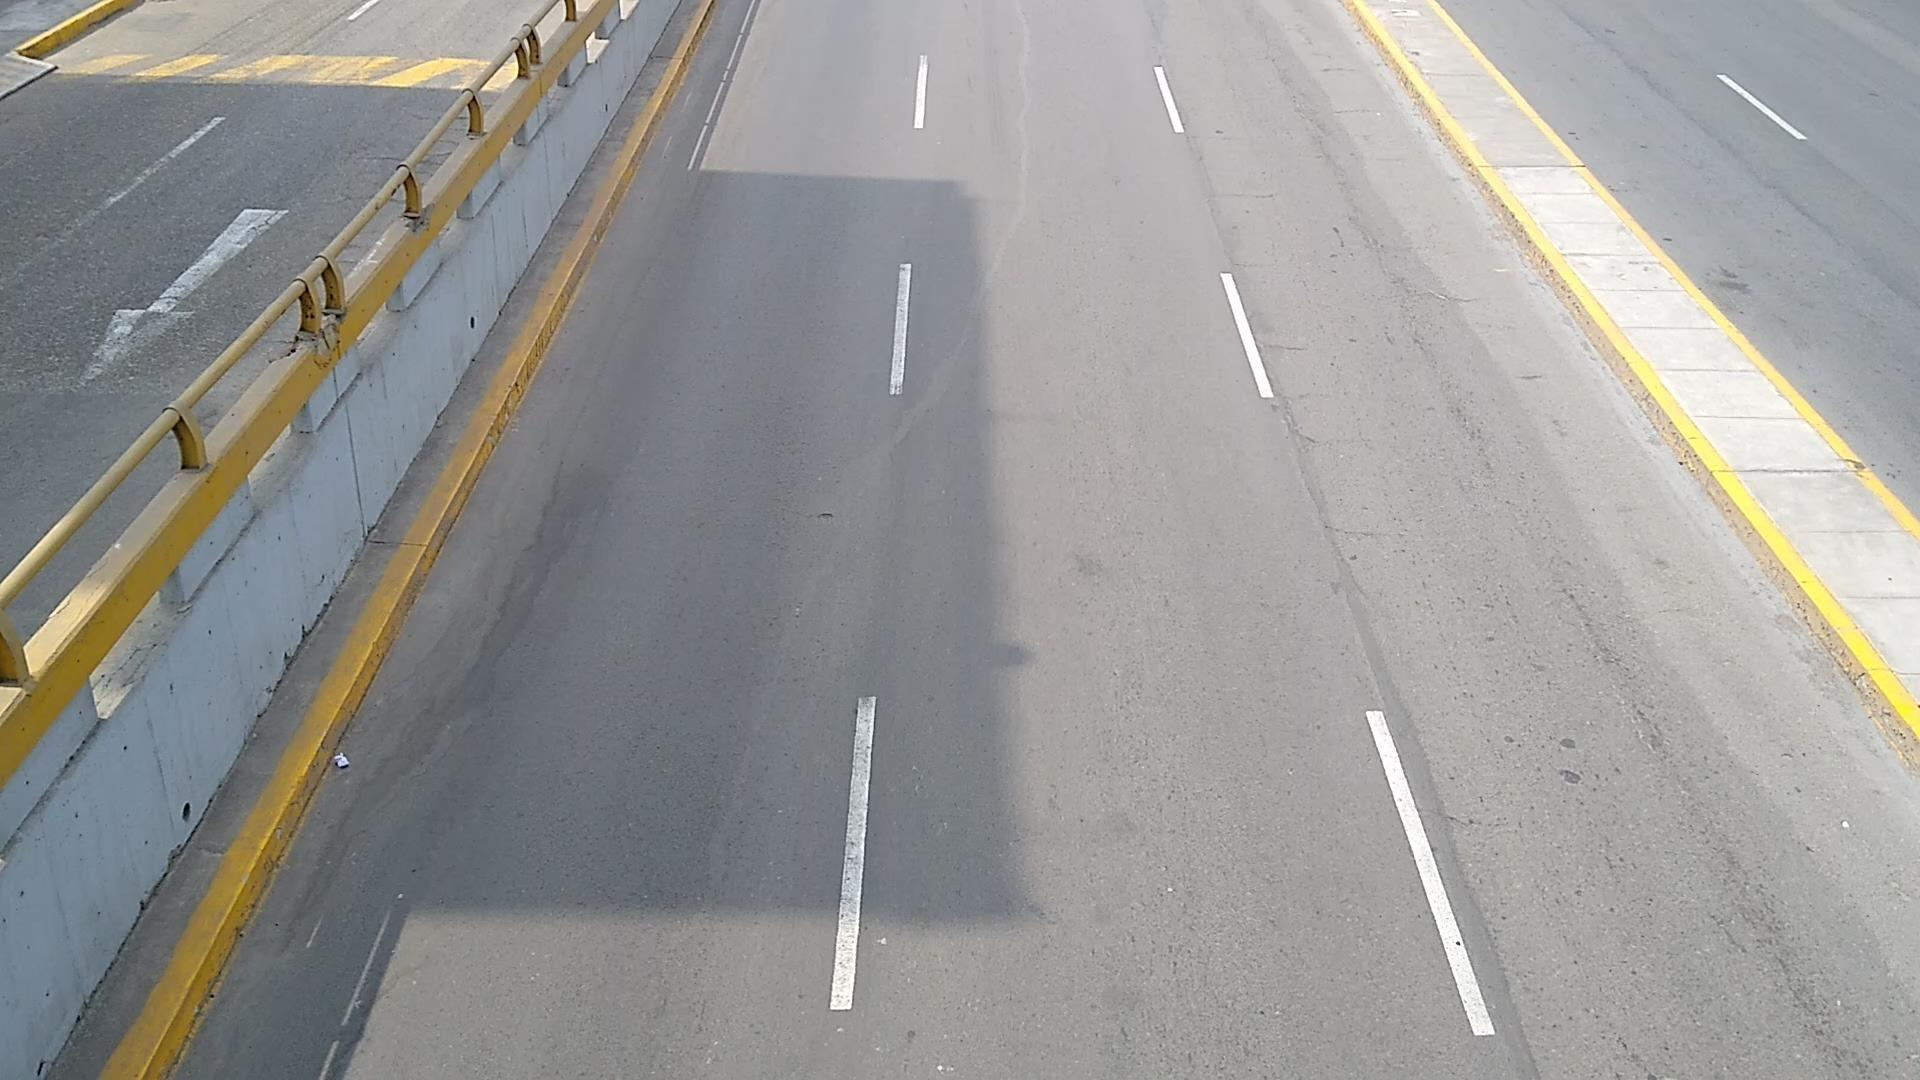car: (57, 0, 543, 88)
